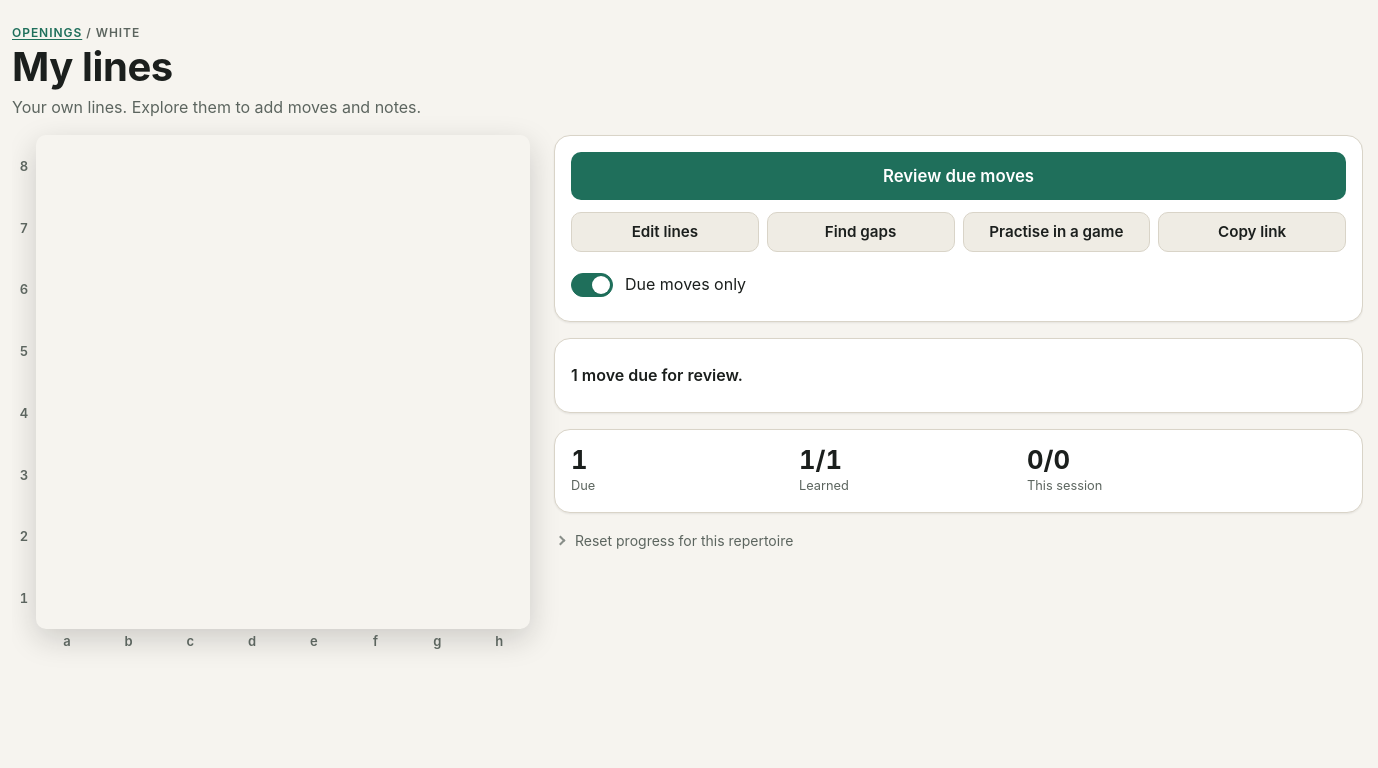
Test: RepertoirePage › a forgotten move is recalled from memory, not shown again as a new move
This screenshot has width=1378, height=768.
Click the button "Review due moves": coordinates (958, 176) top-left (571, 152), bottom-right (1346, 200)
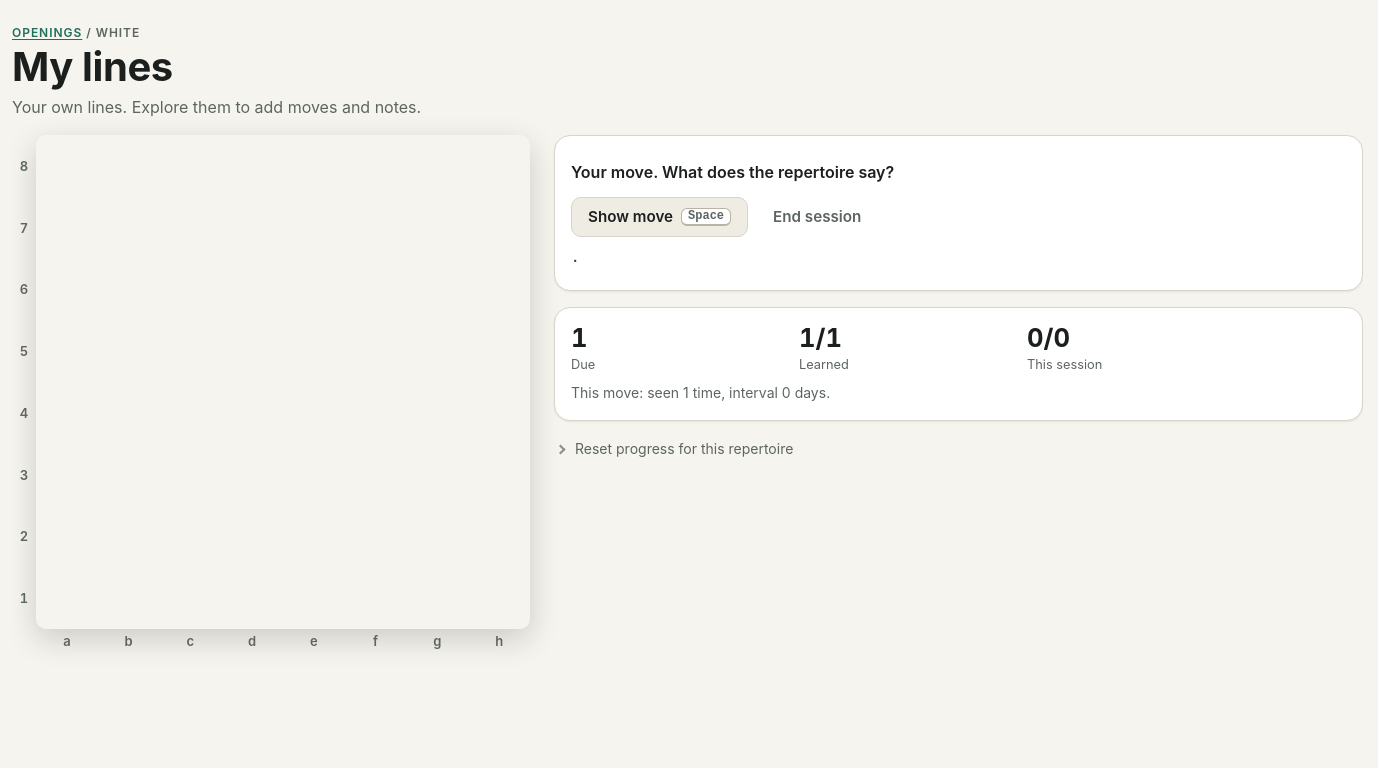
Expected: the message "Your move. What does the repertoire say?" is shown, top-left (571, 162), bottom-right (894, 182)
Press Space
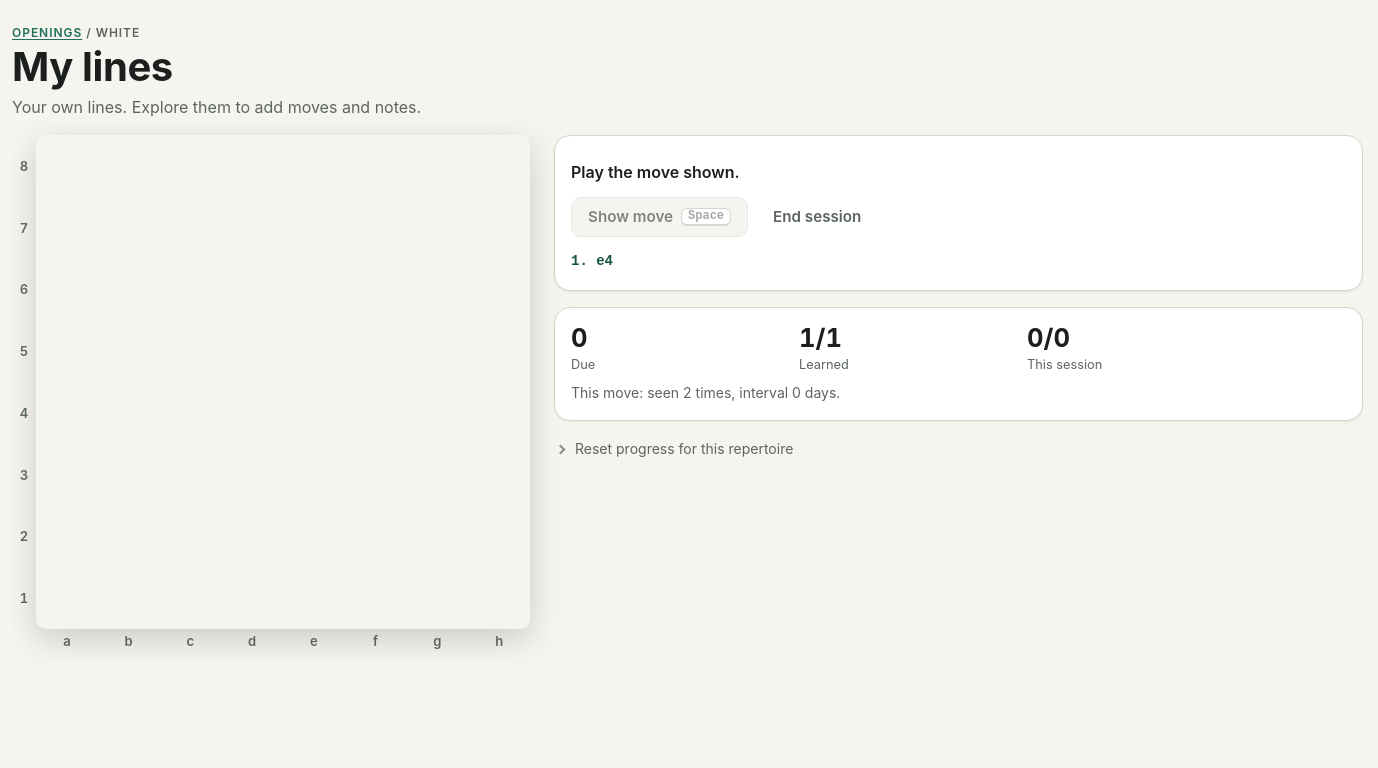
Expected: the message "Play the move shown." is shown, top-left (571, 162), bottom-right (740, 182)
